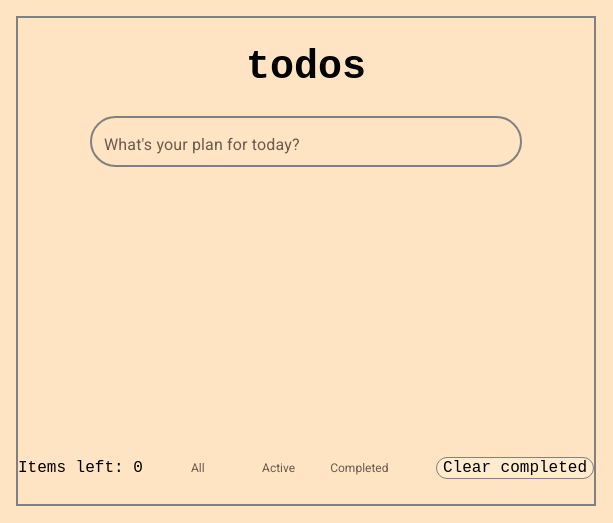
App tests › should create new todo item when Enter is pressed
Step 1. Type "Test todo" into the field labelled "What's your plan for today?" → [306, 142], box [90,114,522,170]
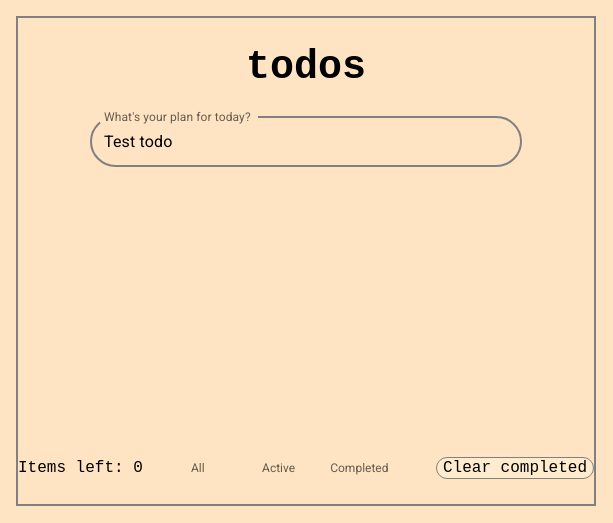
Step 2. Press Enter in the field labelled "What's your plan for today?", box [90,114,522,170]
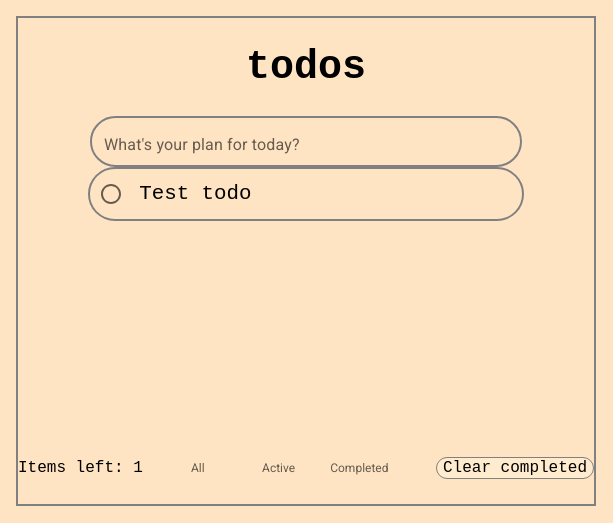
Now the text "Test todo" is shown, box [139,182,252,205]
